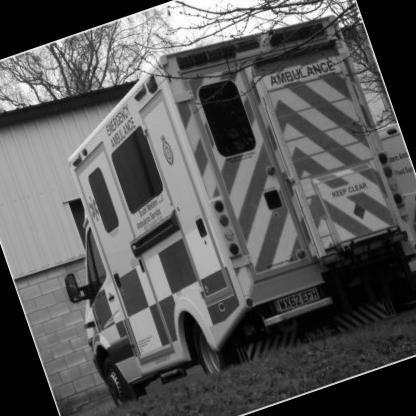ambulance: (1, 2, 416, 415)
